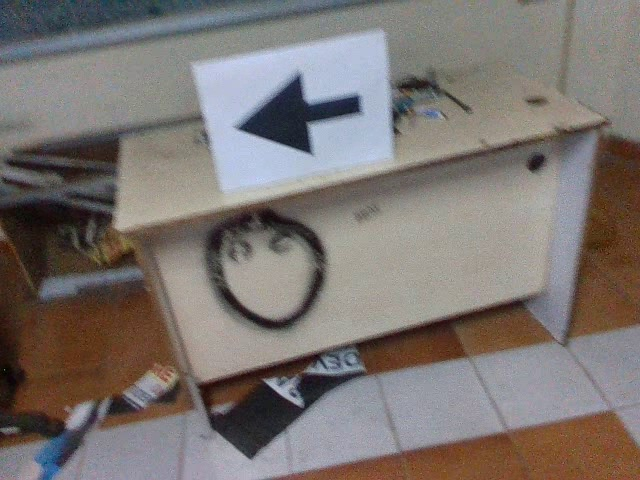Left: (231, 68, 366, 160)
